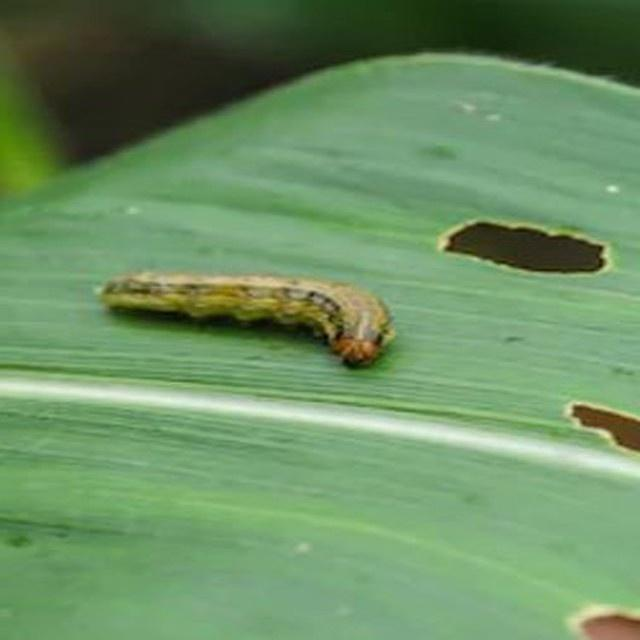gusano_cogollero: (96, 268, 397, 371)
